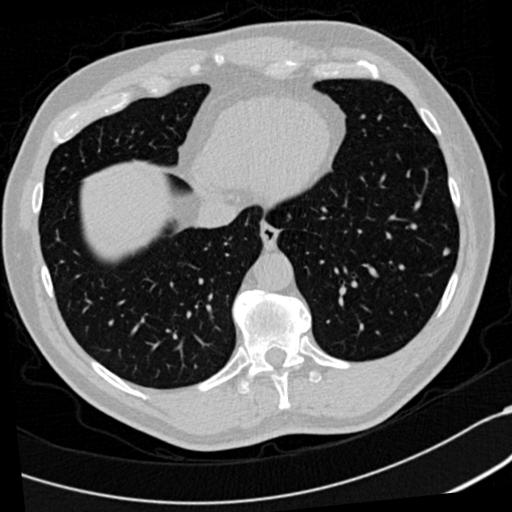nodule: (439, 245, 453, 259)
